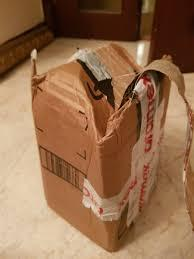damage_box: (28, 35, 171, 255)
